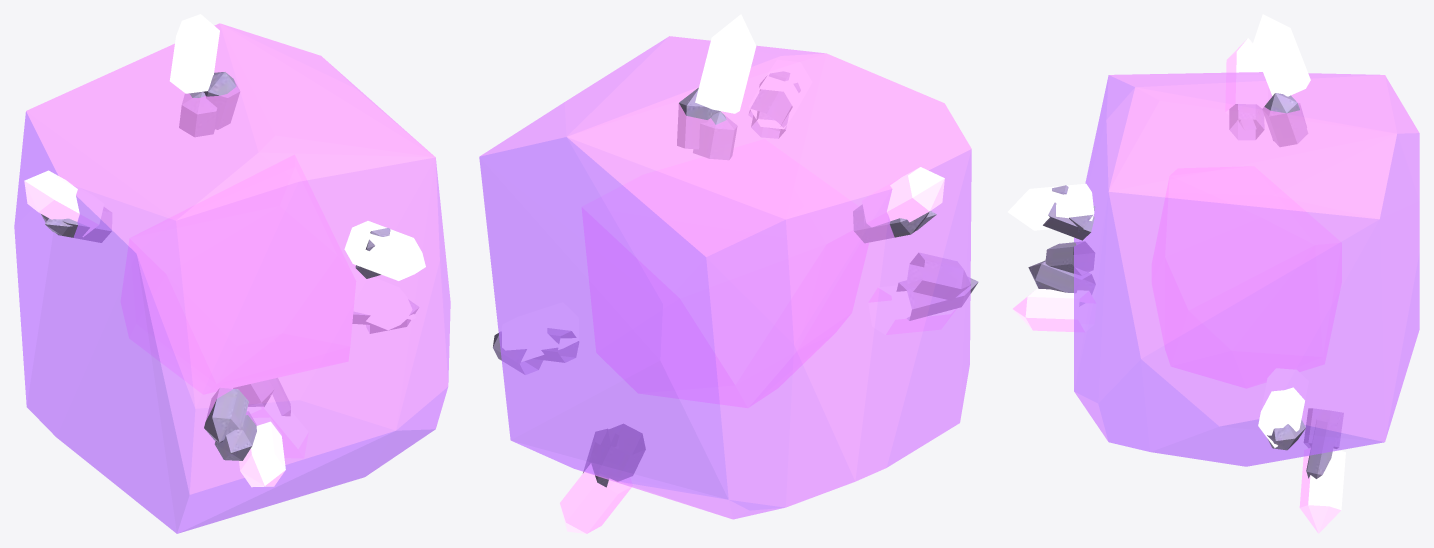
Rendered from block.glb.
3 renders of one model, left to right at view 1: azimuth 30°, elevation 25°; view 2: azimuth 150°, elevation 25°; view 3: azimuth 270°, elevation 25°, orthographic. The views are drawn at different scales.
Parts seen in each view (by area): view 1: shell, heart, body; view 2: shell, heart, body; view 3: shell, heart, body.
Boxes of the visible parts, <box> form: shell: <box>14,23,450,533</box>; heart: <box>121,155,355,394</box>; body: <box>24,14,425,487</box>; shell: <box>479,36,971,519</box>; heart: <box>582,139,868,407</box>; body: <box>493,14,978,533</box>; shell: <box>1074,72,1419,466</box>; heart: <box>1152,166,1341,388</box>; body: <box>1008,14,1345,533</box>.
Size of the model in its own units: 1.14 by 1.32 by 1.07.
Materials: 5 (1 with a texture image).
